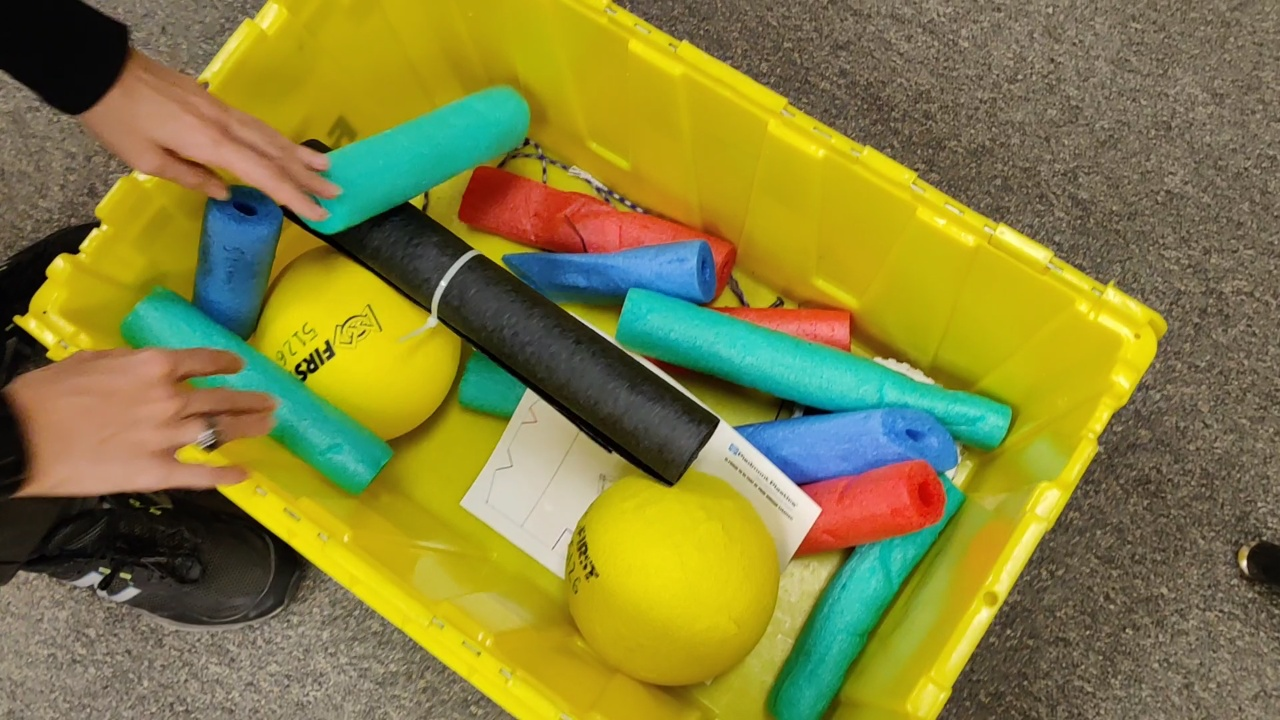Ball: (571, 470, 780, 690), (246, 246, 461, 440)
